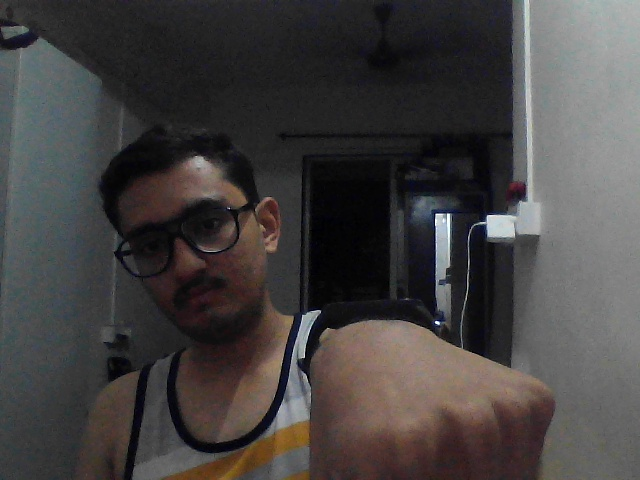Yes: (286, 280, 595, 480)
